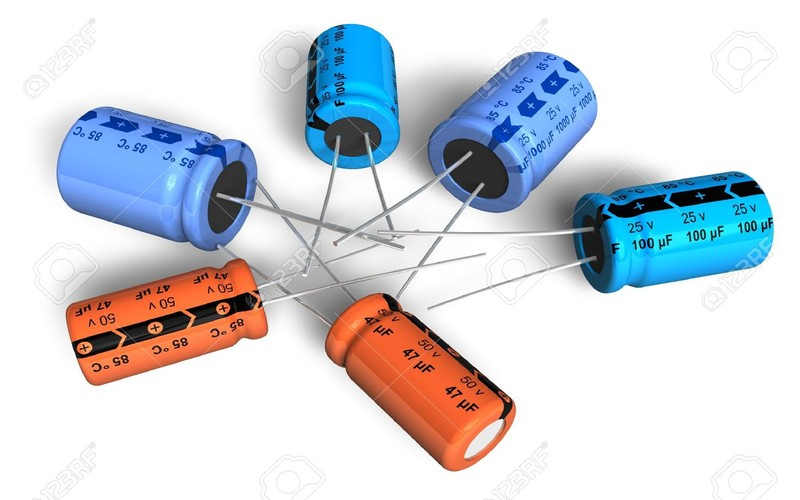Capacitor: (56, 22, 774, 469)
